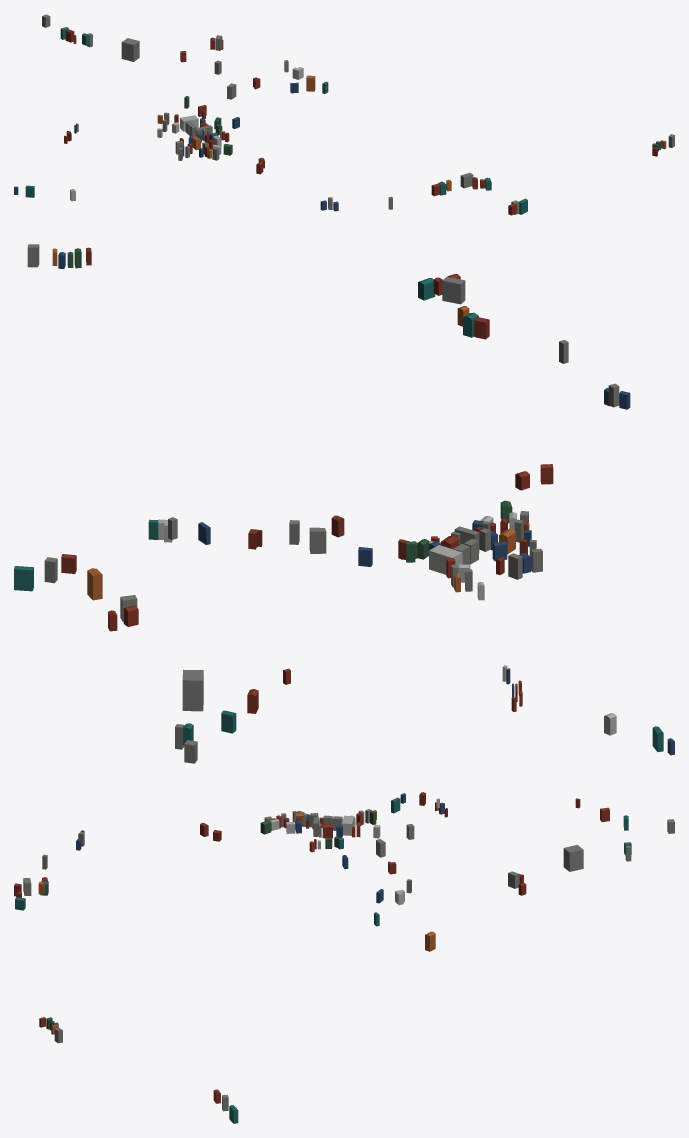
Rendered from near-15-27364-14875.f48a88c4.glb.
3 renders of one model, top to bottom at view 1: azimuth 30°, elevation 25°; view 2: azimuth 150°, elevation 25°; view 3: azimuth 270°, elevation 25°, orthographic. The views are drawn at different scales.
Bounding box in the file's own units: 1179 × 361 × 1166.
